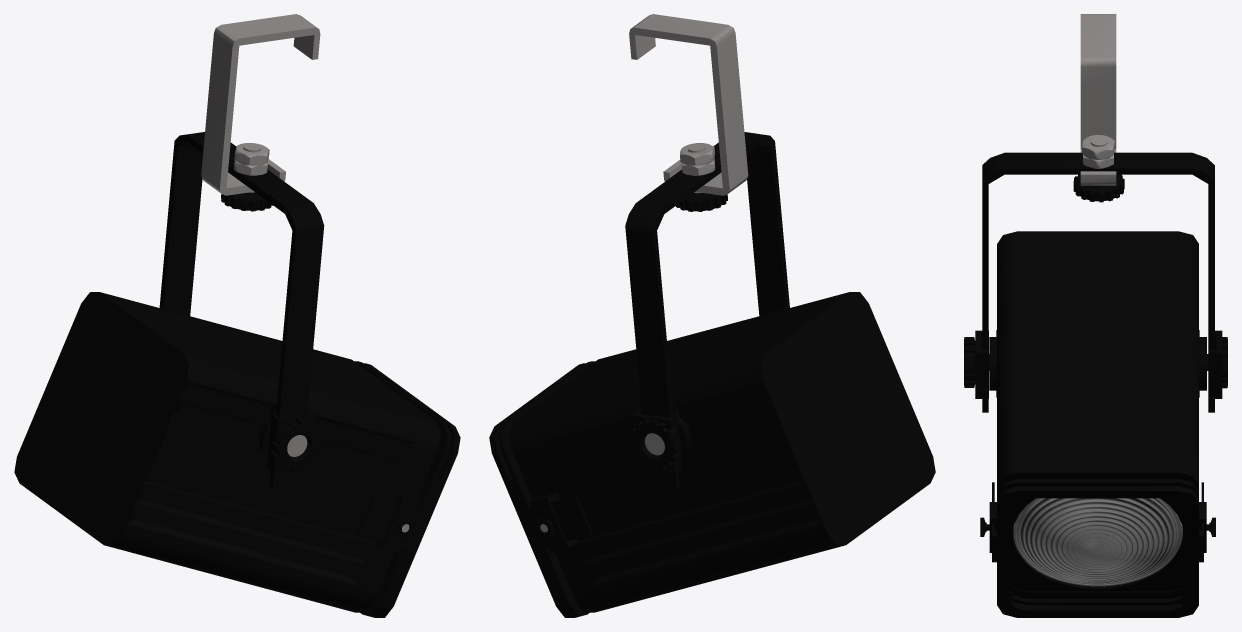
File: stage_light.glb
3 renders of one model, left to right at view 1: azimuth 30°, elevation 25°; view 2: azimuth 150°, elevation 25°; view 3: azimuth 270°, elevation 25°, orthographic. The views are drawn at different scales.
Visible parts, largest first — view 1: Cube, hanger; view 2: Cube, hanger; view 3: Cube, hanger, lens.
Boxes of the visible parts, x1,y1,x2,y2 form: Cube: [14, 292, 460, 617]; hanger: [159, 14, 324, 488]; Cube: [489, 292, 935, 617]; hanger: [625, 14, 789, 488]; Cube: [980, 231, 1215, 617]; hanger: [964, 14, 1227, 412]; lens: [1013, 498, 1182, 586].
Size of the model in its own units: 3.85 by 6.07 by 2.61.
3 materials, 1 textured.
